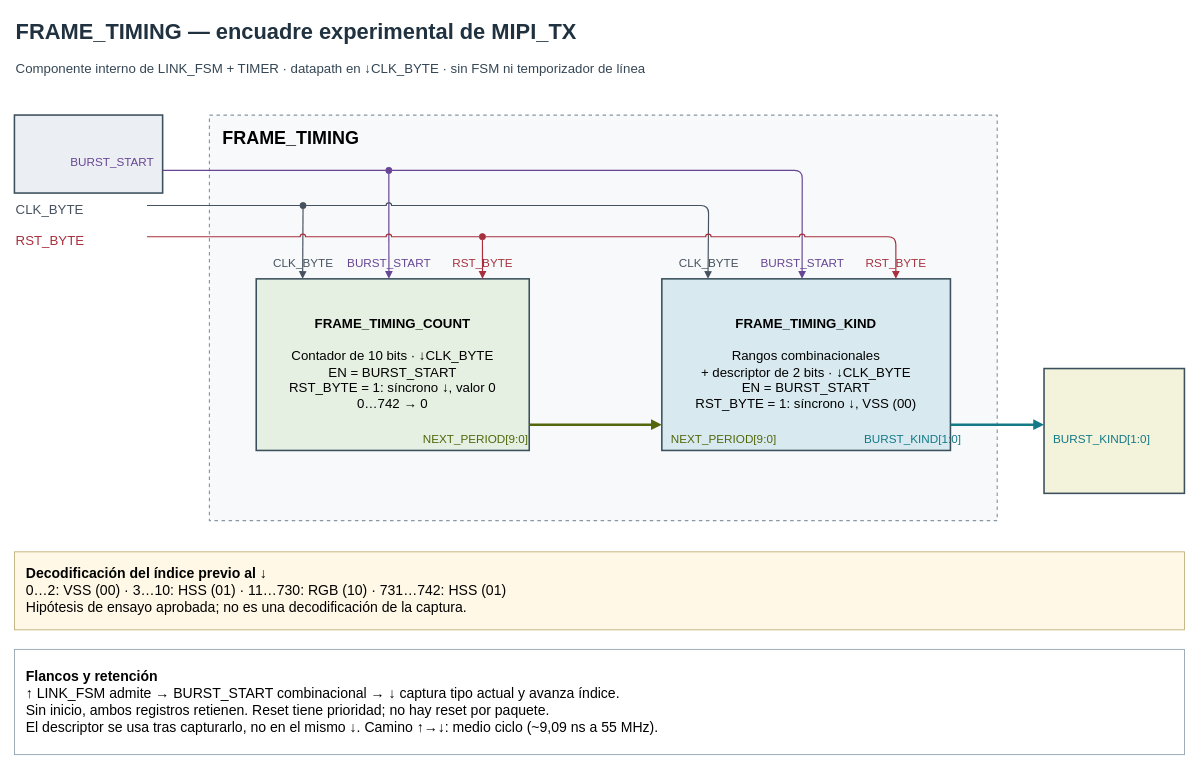
Some shapes in this 1198 by 768 pixel diagram are drawn without their labels. The shapes that lost their labels are listed below. From the top down, each one's box as (x1, y1, x2, y2) in pixels, then its label:
(13, 114, 163, 193): LINK_FSM
(1043, 367, 1185, 494): LINK_FSM / HS_PACKER
